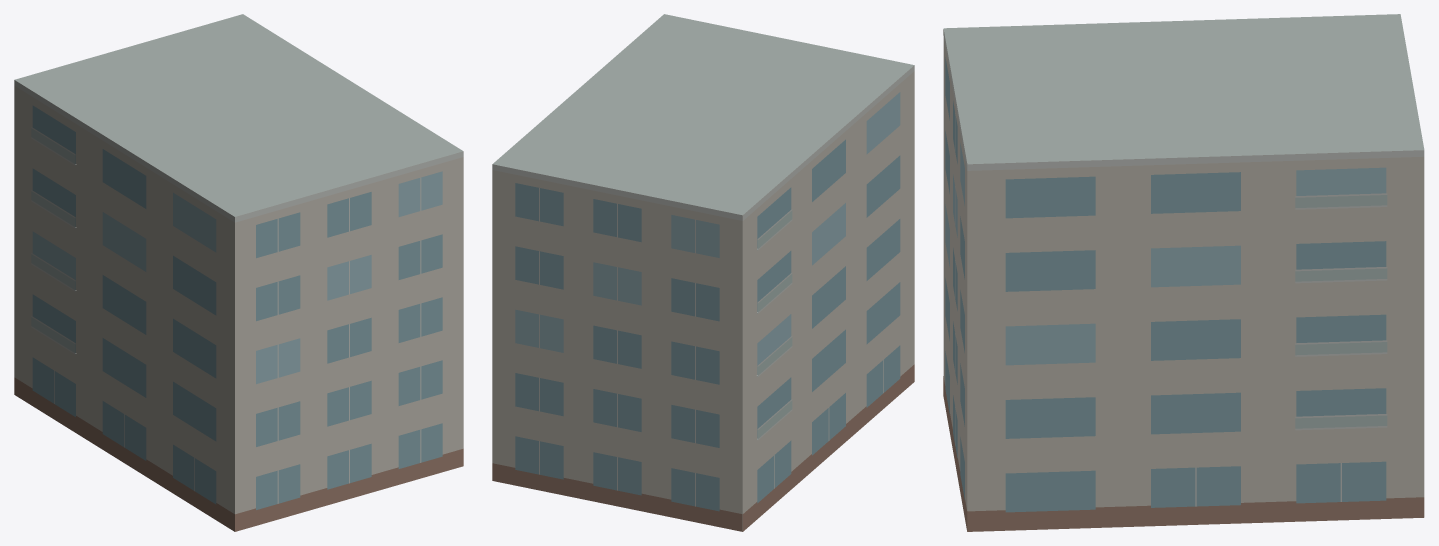
The model's file is survey-upis-32745658.glb.
The picture shows the model from 3 angles, left to right: view 1: azimuth 30°, elevation 25°; view 2: azimuth 150°, elevation 25°; view 3: azimuth 270°, elevation 25°; orthographic projection. The views are drawn at different scales.
Visible parts, largest first — view 1: survey-upis-32745658.tmp; view 2: survey-upis-32745658.tmp; view 3: survey-upis-32745658.tmp.
Boxes of the visible parts, x1=… form: survey-upis-32745658.tmp: x1=14, y1=14, x2=463, y2=531; survey-upis-32745658.tmp: x1=492, y1=14, x2=914, y2=531; survey-upis-32745658.tmp: x1=943, y1=14, x2=1424, y2=531.
Bounding box in the file's own units: 11.85 × 13.5 × 16.02.
